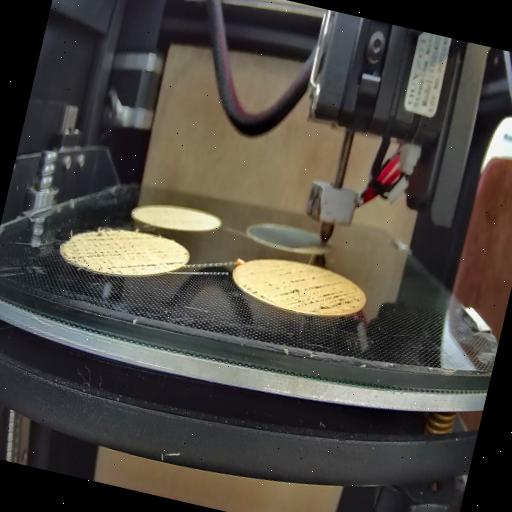under_extrusion: (240, 259, 362, 321), (65, 226, 150, 282), (144, 249, 183, 277)
